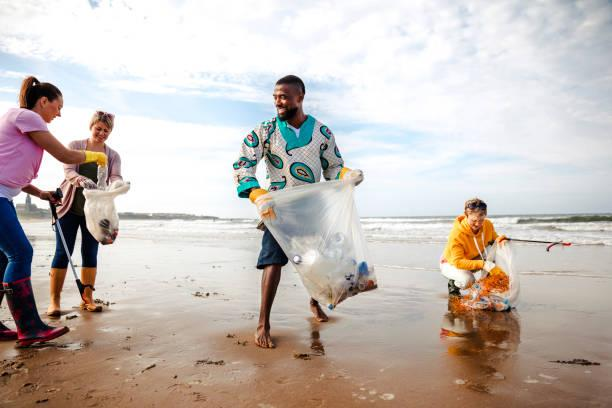Trash: (251, 180, 386, 313)
